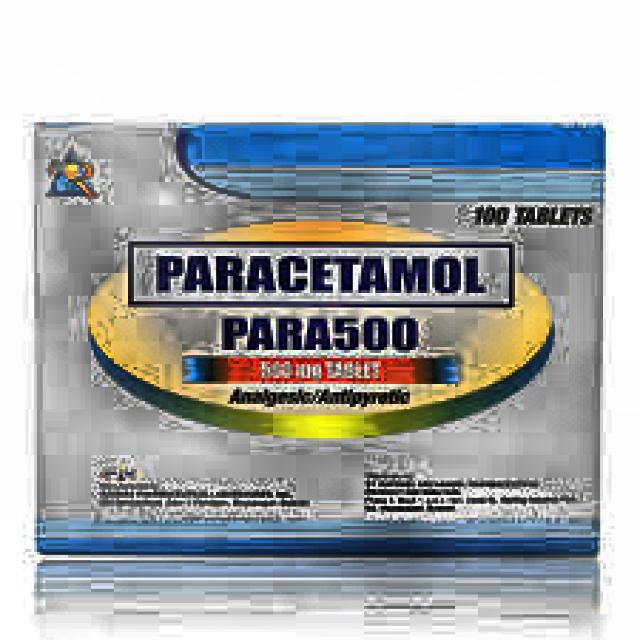Paracetamol: (128, 217, 553, 378)
